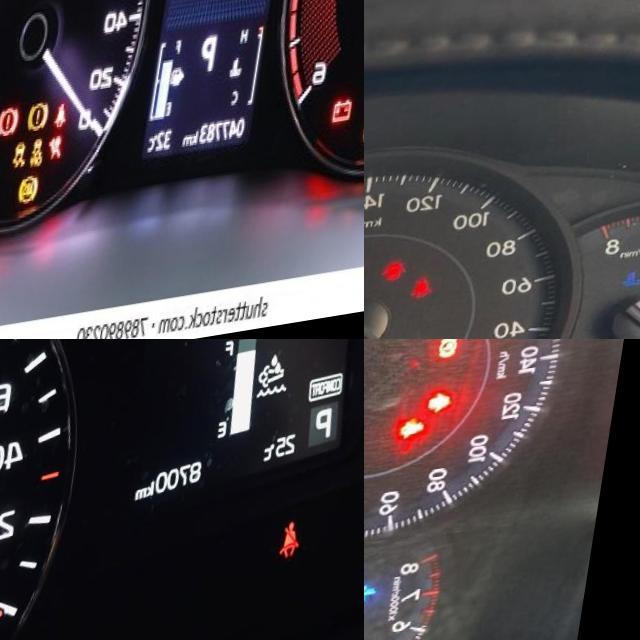Seat Belt: (410, 429, 439, 453), (422, 290, 447, 316)
